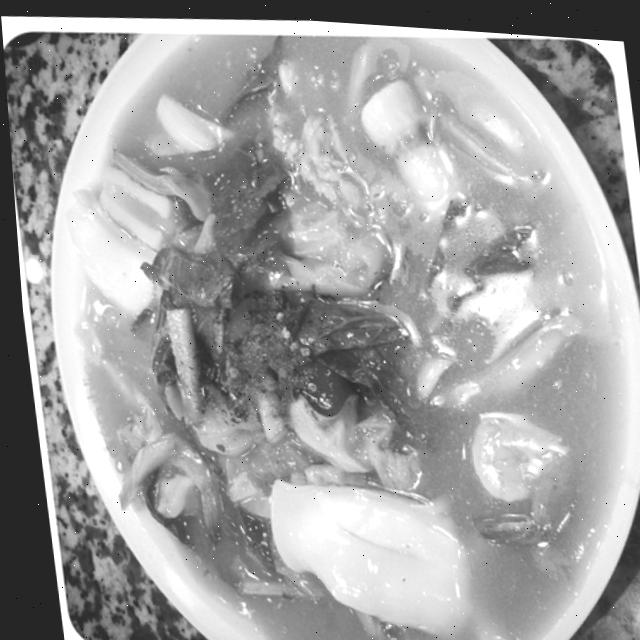面条主食: (37, 6, 640, 640)
